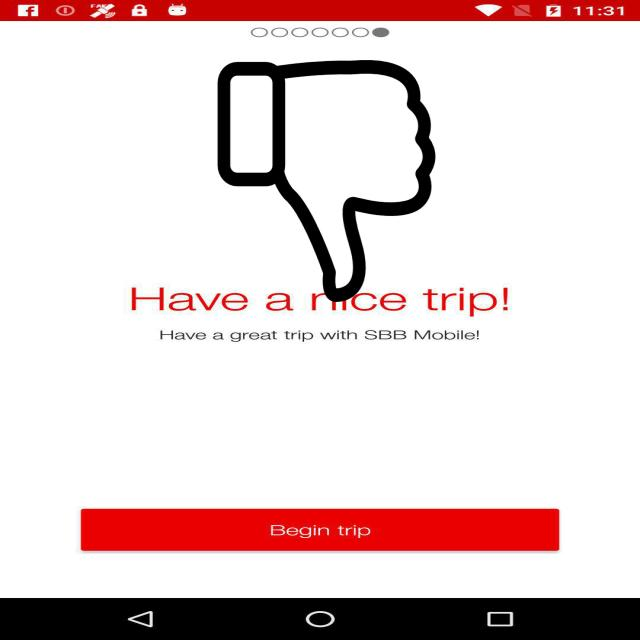obstruction: (214, 60, 438, 302)
